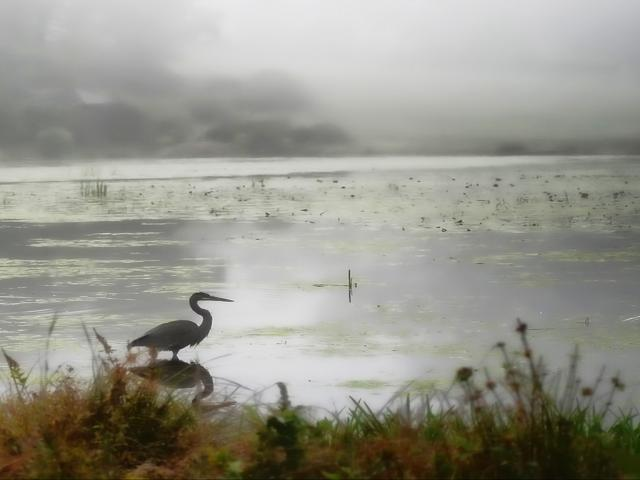Bird: (126, 289, 236, 361)
